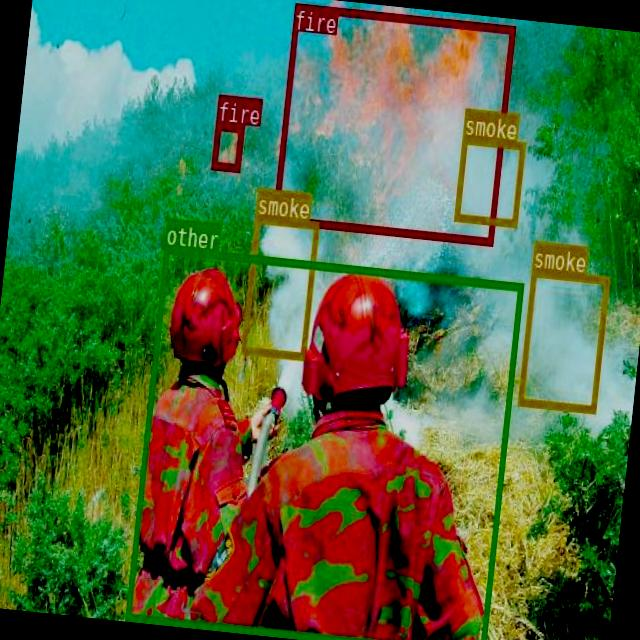fire: (271, 1, 514, 244), (210, 121, 244, 170)
smoke: (516, 266, 608, 411), (240, 214, 318, 358), (452, 134, 524, 225)
